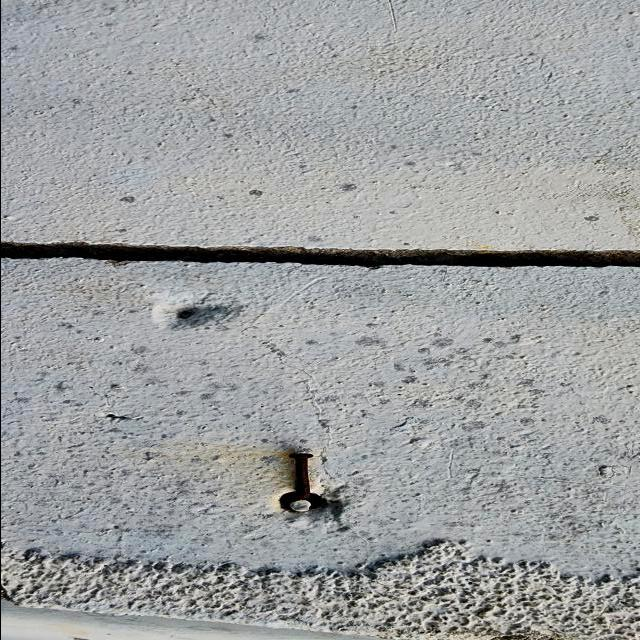SurfaceCrack: (1, 483, 640, 635)
